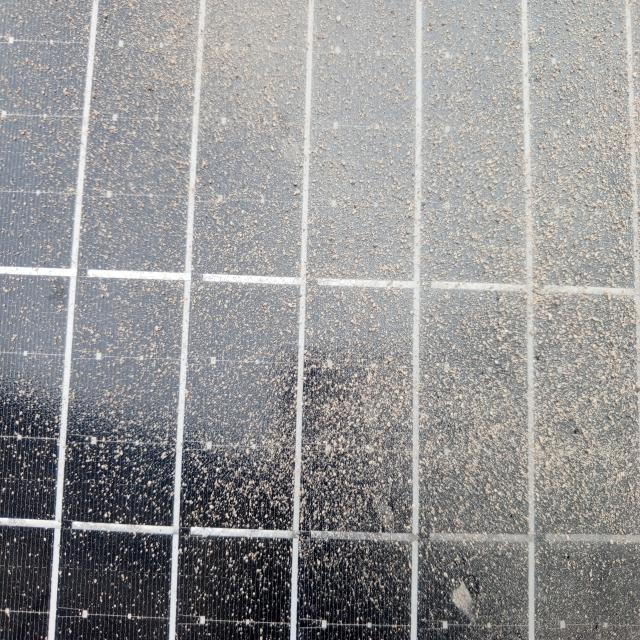Surface Contaminant: (4, 49, 574, 637)
